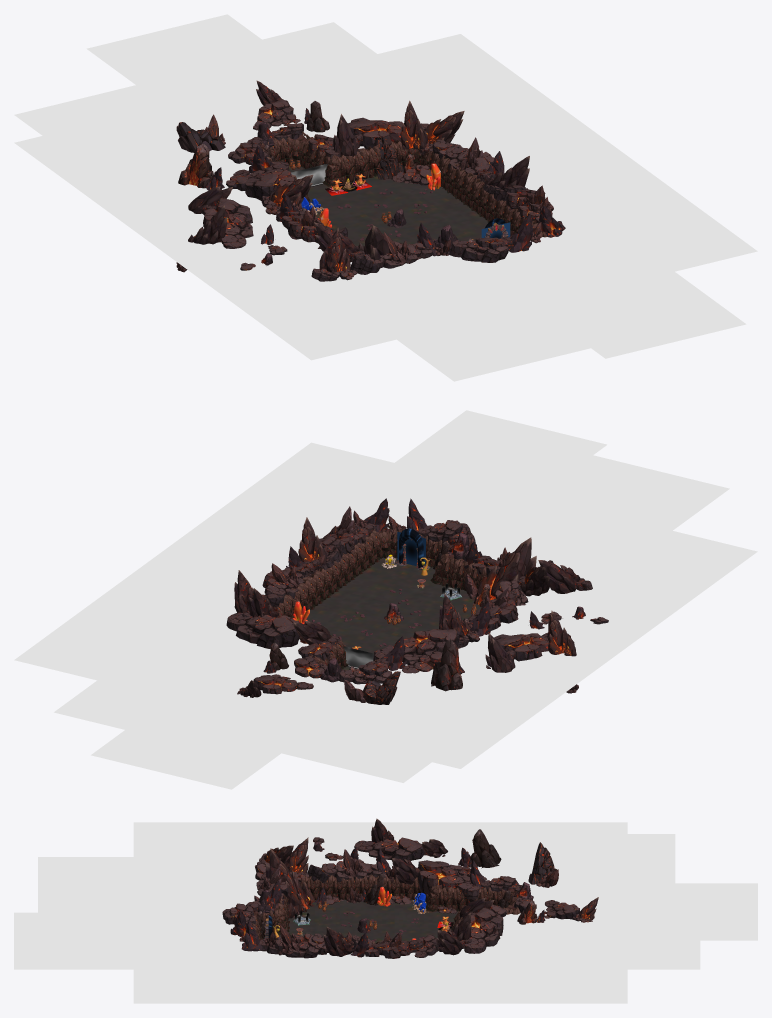
Rendered from LevelMap_1070109.glb.
3 views of the same model, one above another, from view 1: azimuth 30°, elevation 25°; view 2: azimuth 150°, elevation 25°; view 3: azimuth 270°, elevation 25° (orthographic). The views are drawn at different scales.
Visible parts, largest first — view 1: EnvCavern_Detail__Lava__u2080, EnvCavern_Detail__Lava_1__u2780, EnvCavern_Detail__Lava_4__u2614, EnvCavern_Detail__Lava_5__u2006, EnvCavern_Detail__Lava_3__u1954, EnvCavern_Detail__Lava_6__u2431, EnvCavern_Detail__Lava_2__u2607, LevelMap_1070109_Terrain__u3645, LevelMap_1070109_Terrain_1__u2220, EnvCavern_Detail__Rock___3__u3175, EnvCavern_Detail__Rock___3__u2000, EnvCavern_Detail__Rock___3__u3623 (+14 smaller); view 2: EnvCavern_Detail__Lava__u2080, EnvCavern_Detail__Lava_1__u2780, EnvCavern_Detail__Lava_5__u2006, EnvCavern_Detail__Lava_4__u2614, EnvCavern_Detail__Lava_6__u2431, EnvCavern_Detail__Lava_3__u1954, EnvCavern_Detail__Lava_2__u2607, LevelMap_1070109_Terrain__u3645, EnvCavern_Detail__Rock___3__u2000, LevelMap_1070109_Terrain_1__u2220, EnvCavern_Detail__Rock___2__u3151, EnvCavern_Detail__Rock___3__u3623 (+12 smaller); view 3: EnvCavern_Detail__Lava__u2080, EnvCavern_Detail__Lava_1__u2780, EnvCavern_Detail__Lava_4__u2614, EnvCavern_Detail__Lava_5__u2006, EnvCavern_Detail__Lava_3__u1954, EnvCavern_Detail__Lava_2__u2607, EnvCavern_Detail__Lava_6__u2431, LevelMap_1070109_Terrain__u3645, LevelMap_1070109_Terrain_1__u2220, EnvCavern_Detail__Rock___3__u3623, EnvCavern_Detail__Rock___3__u2000, EnvCavern_Detail__Rock___3__u3175 (+20 smaller).
Boxes of the visible parts, x1,y1,x2,y2 form: EnvCavern_Detail__Lava__u2080: [319, 34, 757, 285]; EnvCavern_Detail__Lava_1__u2780: [14, 110, 444, 360]; EnvCavern_Detail__Lava_4__u2614: [473, 220, 746, 358]; EnvCavern_Detail__Lava_5__u2006: [319, 255, 594, 381]; EnvCavern_Detail__Lava_3__u1954: [193, 22, 476, 148]; EnvCavern_Detail__Lava_6__u2431: [86, 14, 369, 152]; EnvCavern_Detail__Lava_2__u2607: [14, 81, 251, 219]; LevelMap_1070109_Terrain__u3645: [330, 193, 487, 246]; LevelMap_1070109_Terrain_1__u2220: [279, 160, 449, 221]; EnvCavern_Detail__Rock___3__u3175: [203, 198, 253, 248]; EnvCavern_Detail__Rock___3__u2000: [348, 117, 428, 149]; EnvCavern_Detail__Rock___3__u3623: [245, 161, 294, 200]; EnvCavern_Detail__Lava__u2080: [14, 442, 452, 694]; EnvCavern_Detail__Lava_1__u2780: [322, 517, 757, 768]; EnvCavern_Detail__Lava_5__u2006: [474, 454, 729, 592]; EnvCavern_Detail__Lava_4__u2614: [323, 410, 606, 537]; EnvCavern_Detail__Lava_6__u2431: [91, 651, 365, 789]; EnvCavern_Detail__Lava_3__u1954: [54, 607, 308, 746]; EnvCavern_Detail__Lava_2__u2607: [263, 657, 545, 782]; LevelMap_1070109_Terrain__u3645: [309, 557, 481, 638]; EnvCavern_Detail__Rock___3__u2000: [226, 612, 299, 648]; LevelMap_1070109_Terrain_1__u2220: [301, 613, 404, 670]; EnvCavern_Detail__Rock___2__u3151: [472, 537, 536, 600]; EnvCavern_Detail__Rock___3__u3623: [373, 629, 459, 664]; EnvCavern_Detail__Lava__u2080: [133, 946, 627, 1003]; EnvCavern_Detail__Lava_1__u2780: [133, 822, 627, 878]; EnvCavern_Detail__Lava_4__u2614: [14, 912, 251, 969]; EnvCavern_Detail__Lava_5__u2006: [38, 857, 261, 912]; EnvCavern_Detail__Lava_3__u1954: [462, 912, 700, 969]; EnvCavern_Detail__Lava_2__u2607: [437, 834, 675, 891]; EnvCavern_Detail__Lava_6__u2431: [520, 883, 757, 940]; LevelMap_1070109_Terrain__u3645: [263, 899, 394, 943]; LevelMap_1070109_Terrain_1__u2220: [394, 899, 459, 941]; EnvCavern_Detail__Rock___3__u3623: [418, 860, 480, 903]; EnvCavern_Detail__Rock___3__u2000: [464, 907, 503, 953]; EnvCavern_Detail__Rock___3__u3175: [354, 837, 424, 861].
Size of the model in its own units: 63.7 by 11.14 by 111.
38 materials, 37 textured.
